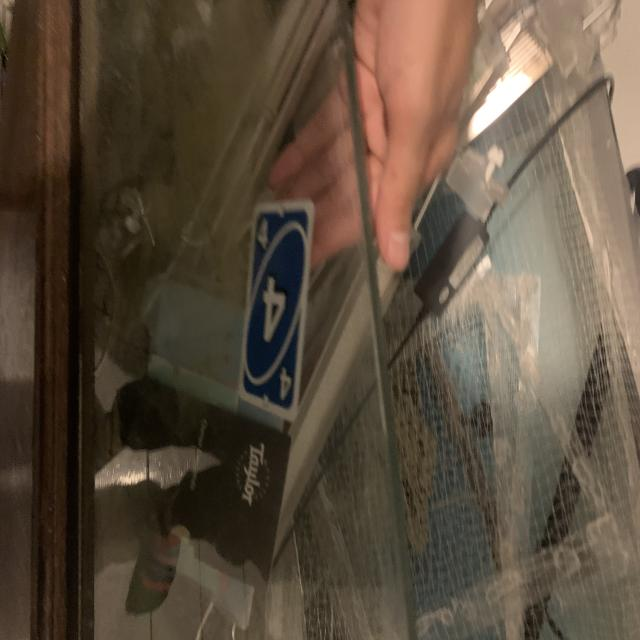lblue-4: (252, 214, 273, 256)
